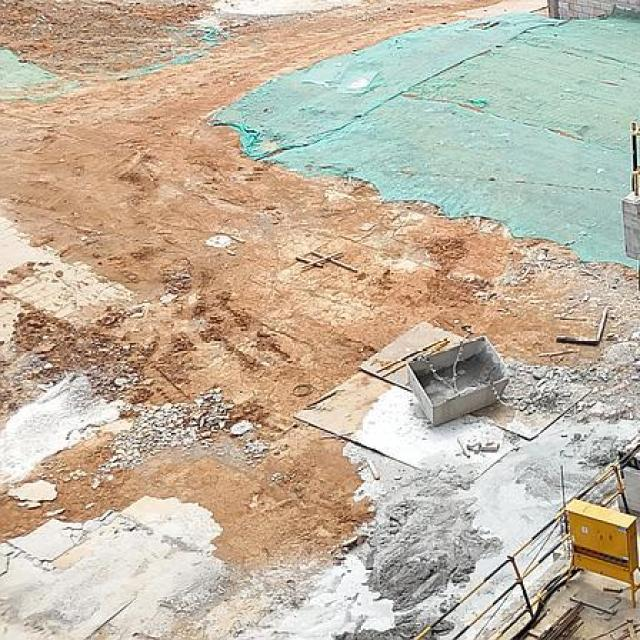edge_guardrail: (414, 444, 639, 639), (627, 121, 640, 196)
